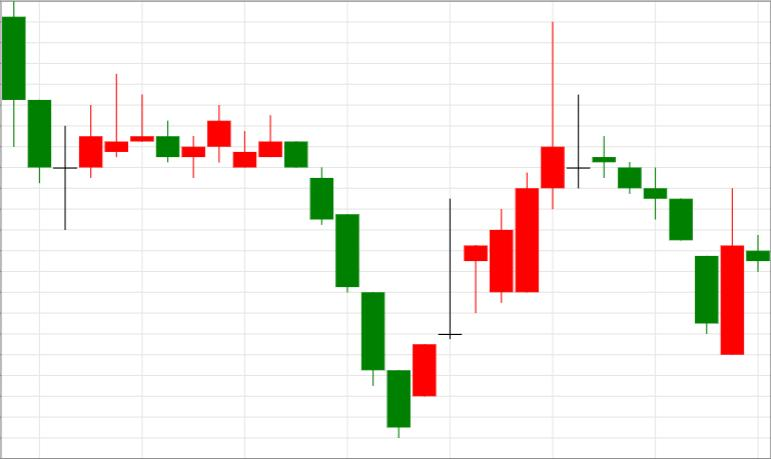bullish_engulfing_rise: (591, 135, 744, 356)
shooting_star_fall: (412, 21, 564, 396)
three_black_crows_fall: (181, 105, 384, 386)
